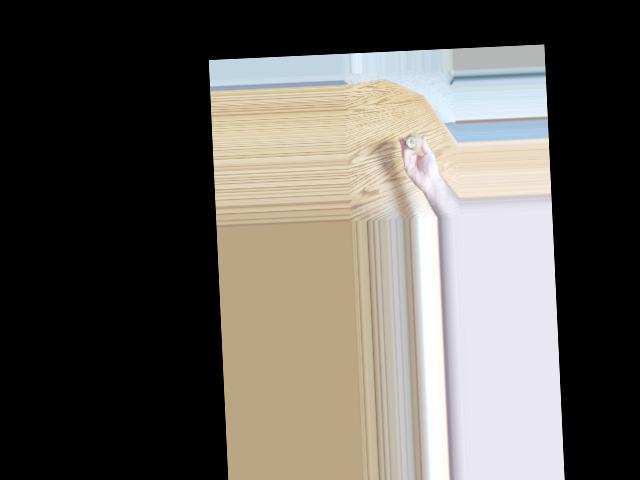sweet_potato: (405, 132, 424, 148)
